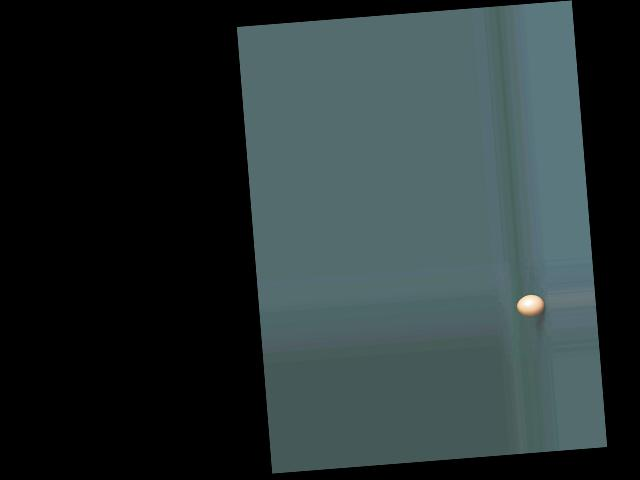egg: (516, 294, 545, 317)
